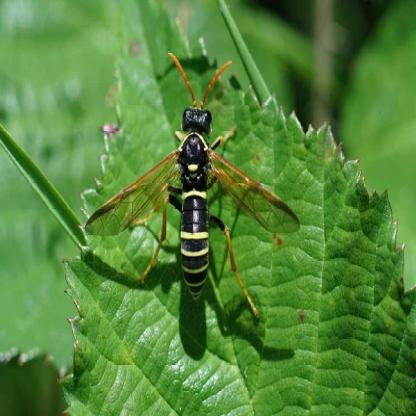sawfly: (81, 51, 300, 325)
